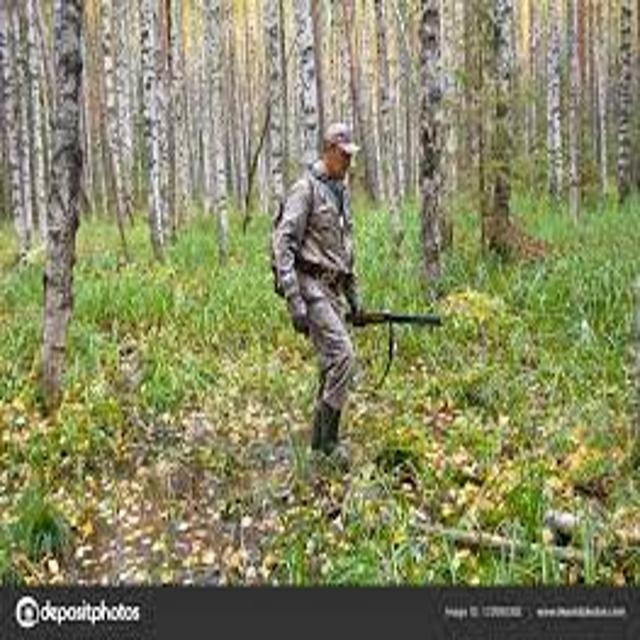gun: (309, 279, 461, 367)
poacher: (236, 102, 430, 490)
